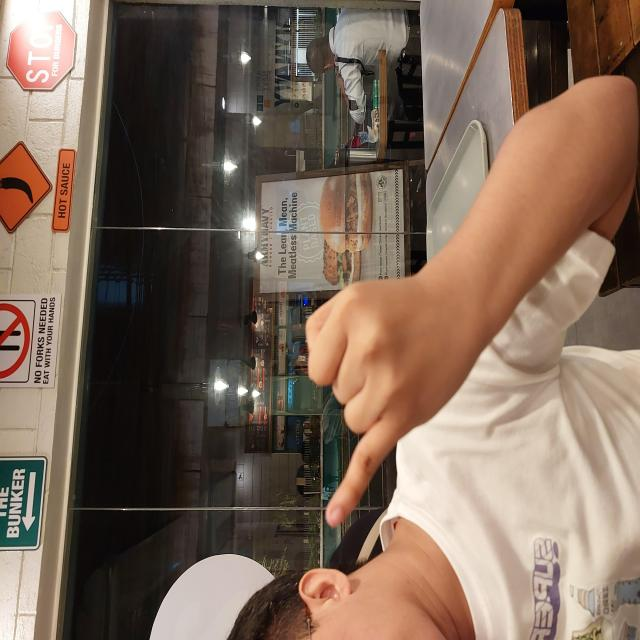J: (108, 304, 362, 468)
